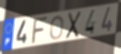4: (15, 19, 30, 47), (83, 9, 97, 36), (101, 6, 113, 33)
F: (30, 16, 49, 46)
O: (49, 15, 65, 41)
X: (65, 10, 82, 41)
